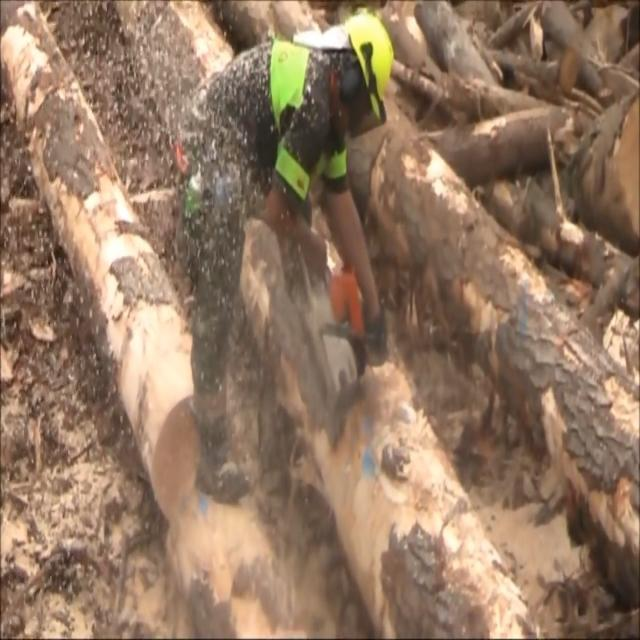Chainsaw: (258, 216, 400, 471)
